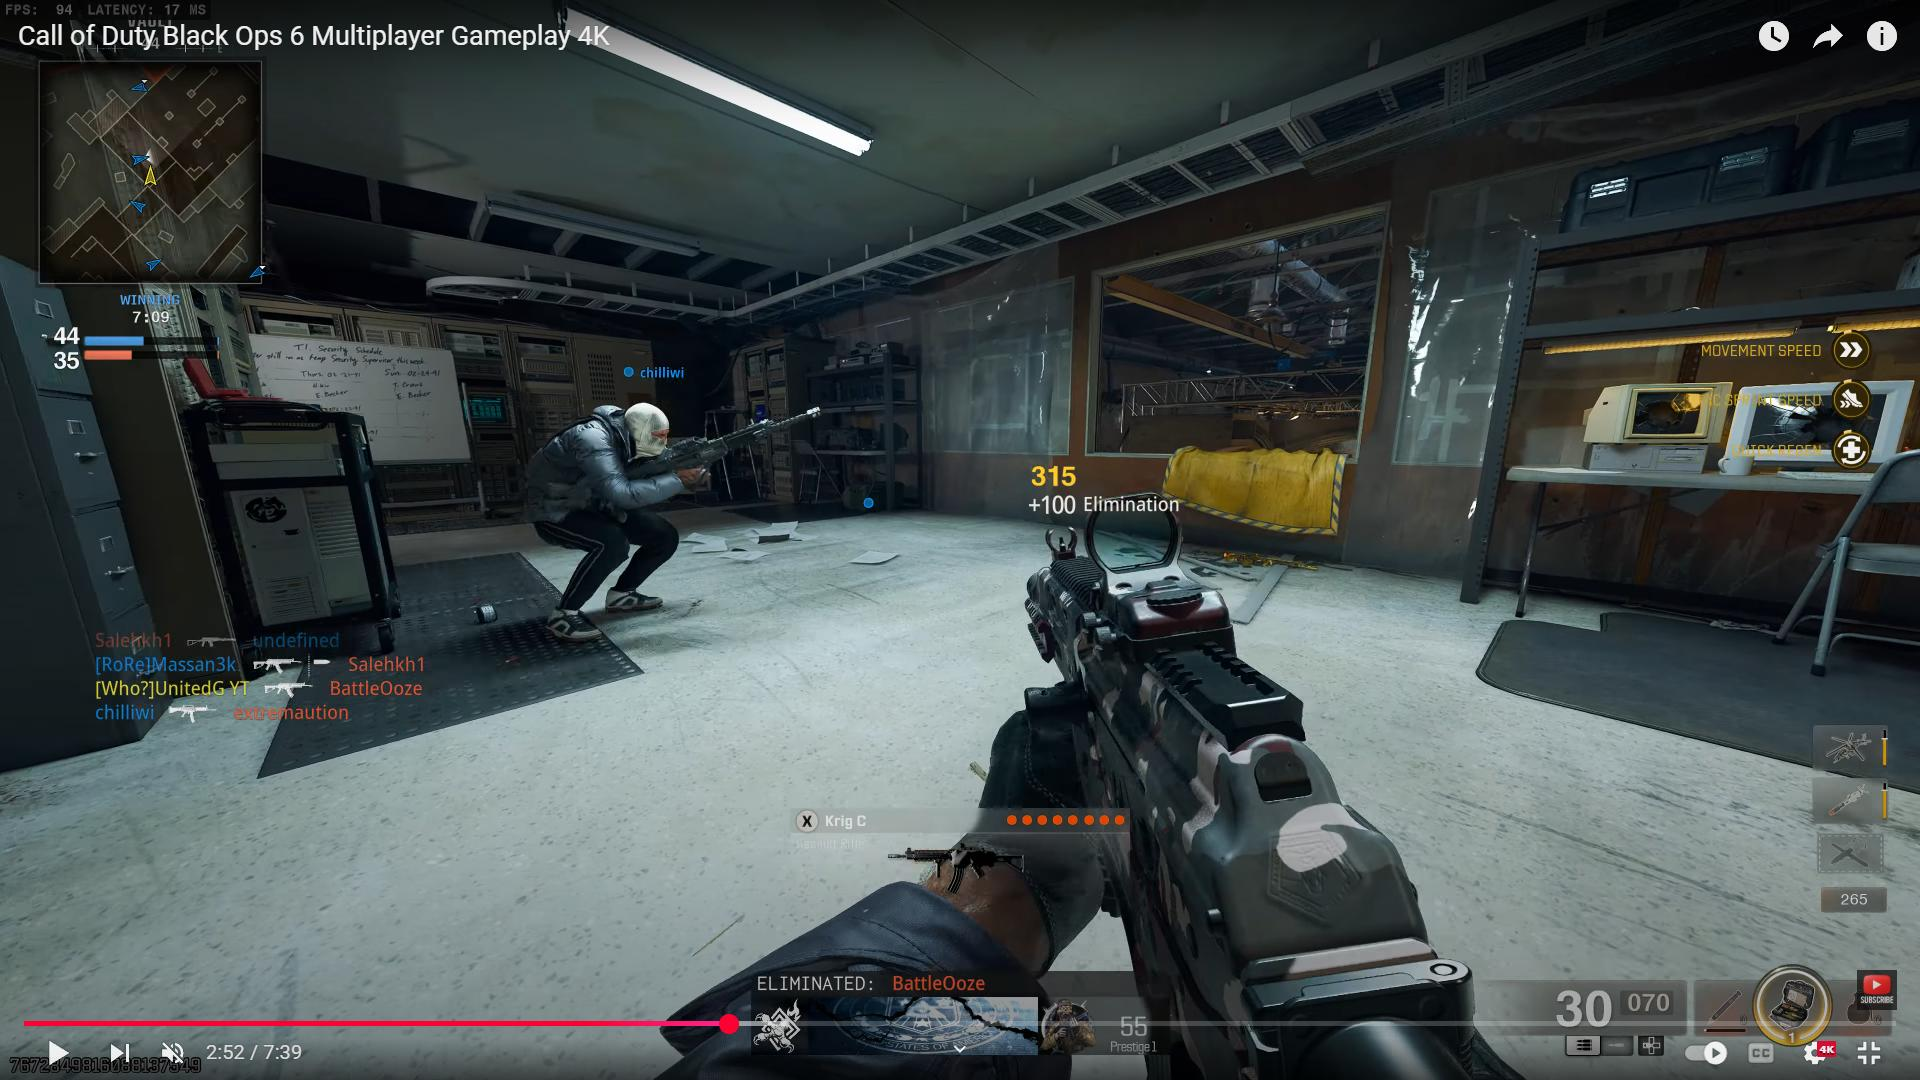Enemy: (527, 388, 690, 641)
